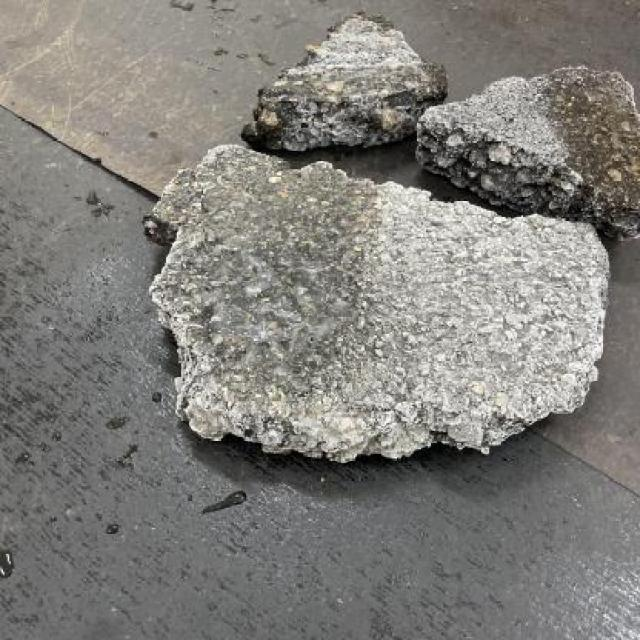Road Debris: (162, 150, 368, 438), (542, 61, 630, 224), (265, 68, 418, 148)
